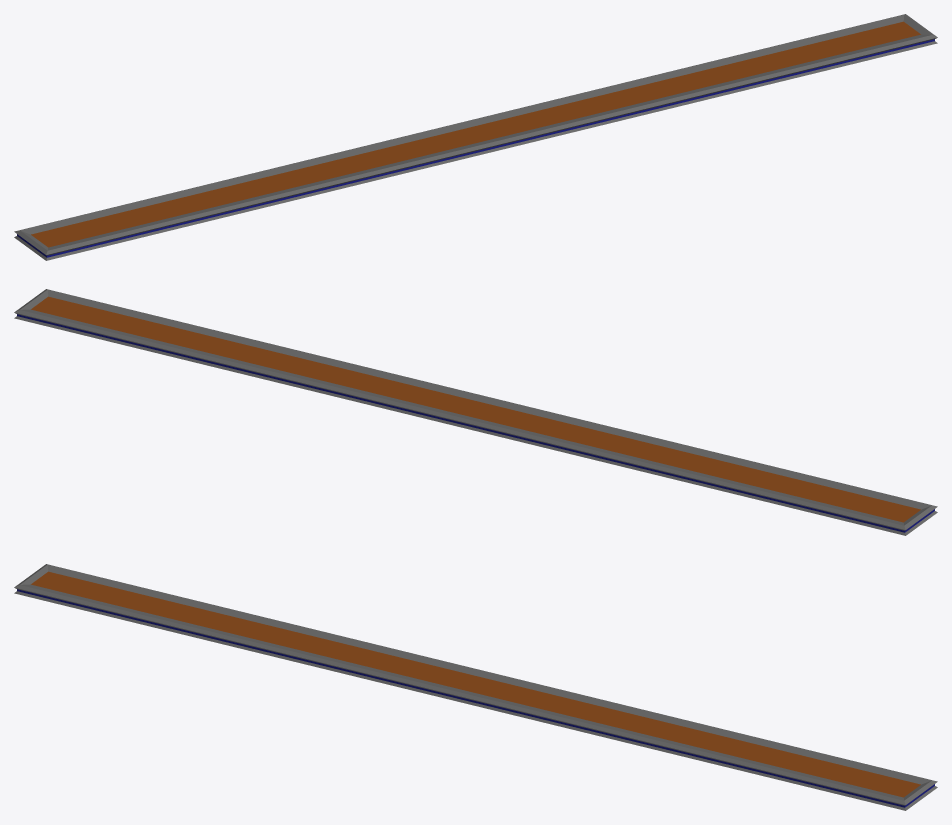
File: BuildZone2.obj
The picture shows the model from 3 angles, top to bottom: view 1: azimuth 30°, elevation 25°; view 2: azimuth 150°, elevation 25°; view 3: azimuth 330°, elevation 25°; orthographic projection.
Parts seen in each view (by area): view 1: BuildZone2_Cube.002; view 2: BuildZone2_Cube.002; view 3: BuildZone2_Cube.002.
Boxes of the visible parts, x1,y1,x2,y2 form: BuildZone2_Cube.002: (14,14,937,260); BuildZone2_Cube.002: (14,289,937,535); BuildZone2_Cube.002: (14,564,937,810).
Bounding box in the file's own units: 48 × 0.4 × 3.
Materials: 2 (2 with a texture image).
